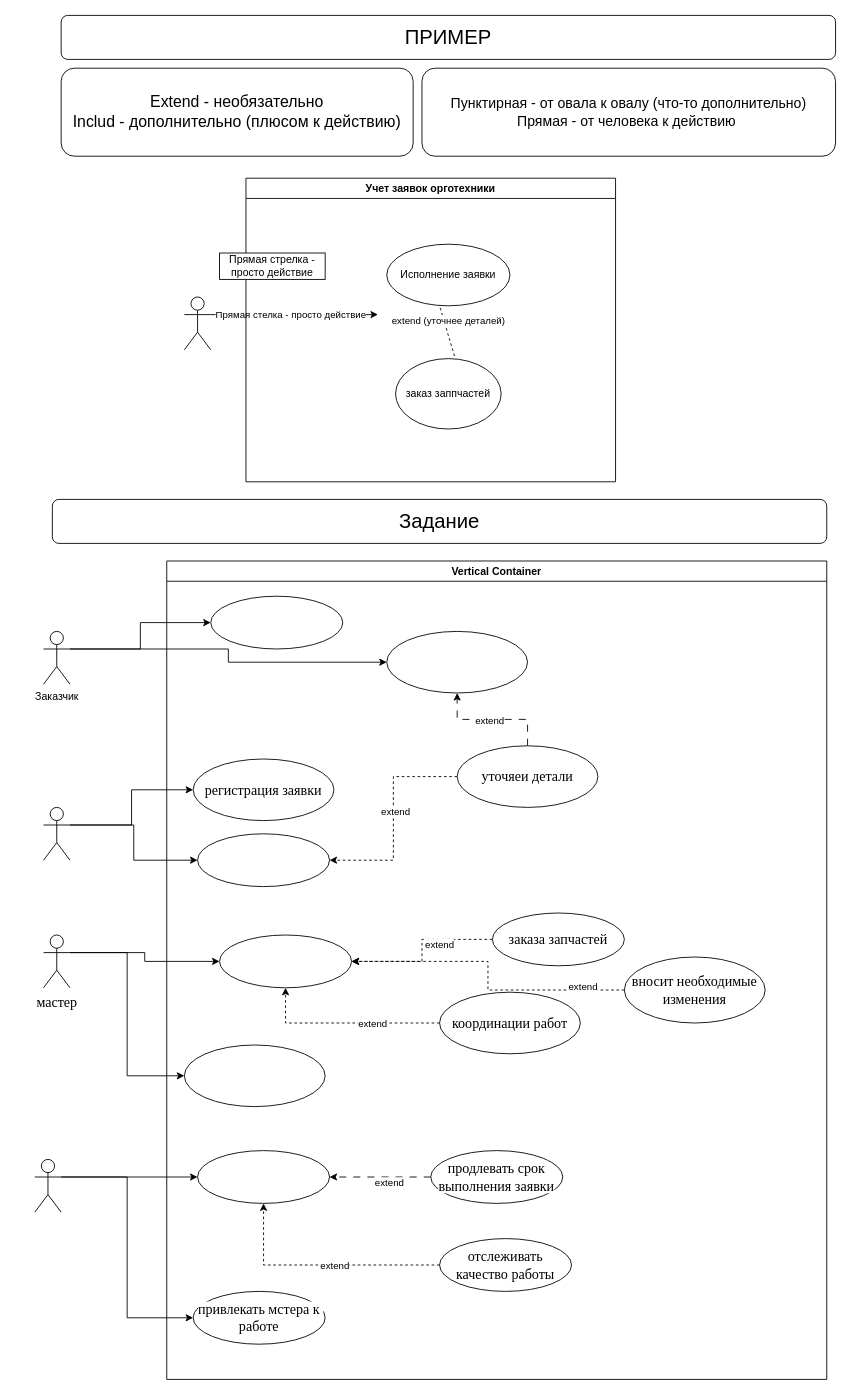
The diagram is 851 pixels wide and 1395 high, and some of its shapes have lost their labels. The shapes that lost their labels are listed below. From the top down, each one's centre as x and y in pixels, then its label:
At (197,323): "Клиент".
At (276,622): "оставляет новую заявку .".
At (457,662): "отредактировать свою заявку .".
At (56,833): "оператором".
At (263,860): "обработка заявок".
At (285,961): "исполнение заявок".
At (254,1075): "предоставить отчёт".
At (47,1185): "менеджера".
At (263,1176): "консультантация".
